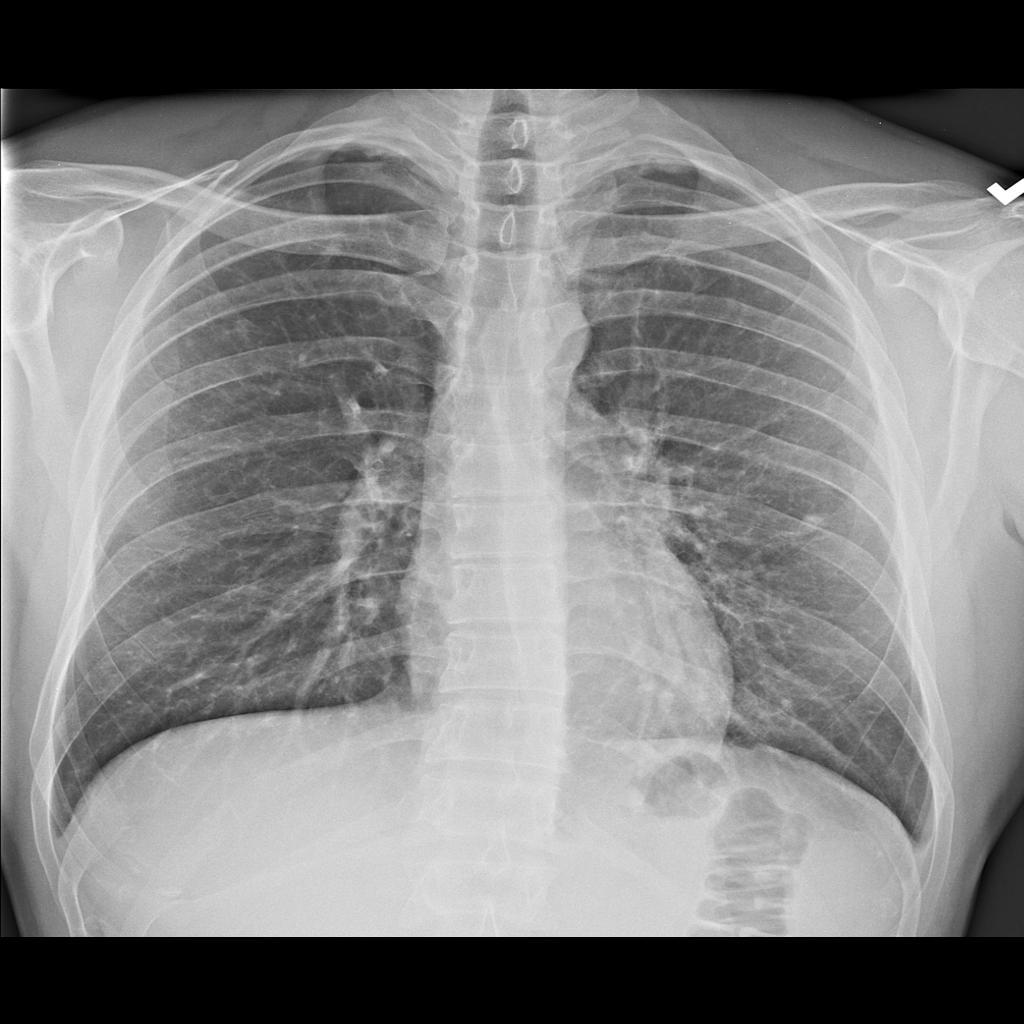Nodule: (800, 507, 829, 543)
